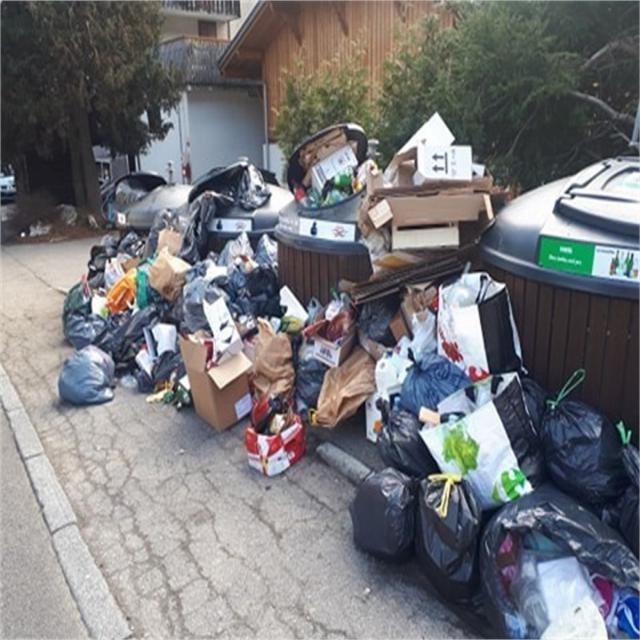Trashbag: (490, 496, 620, 633), (538, 396, 628, 505), (422, 476, 482, 582), (357, 469, 415, 546), (379, 404, 433, 480), (57, 352, 113, 406), (289, 361, 333, 412), (358, 294, 401, 343), (70, 306, 105, 356), (250, 271, 280, 323)
